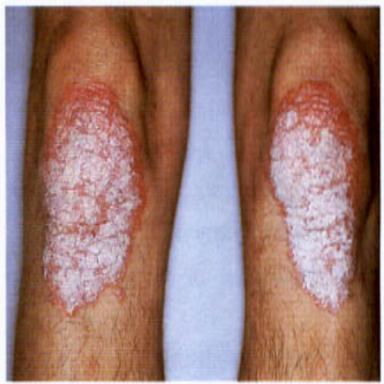Psoriasis: (41, 84, 145, 315), (269, 82, 357, 313)
